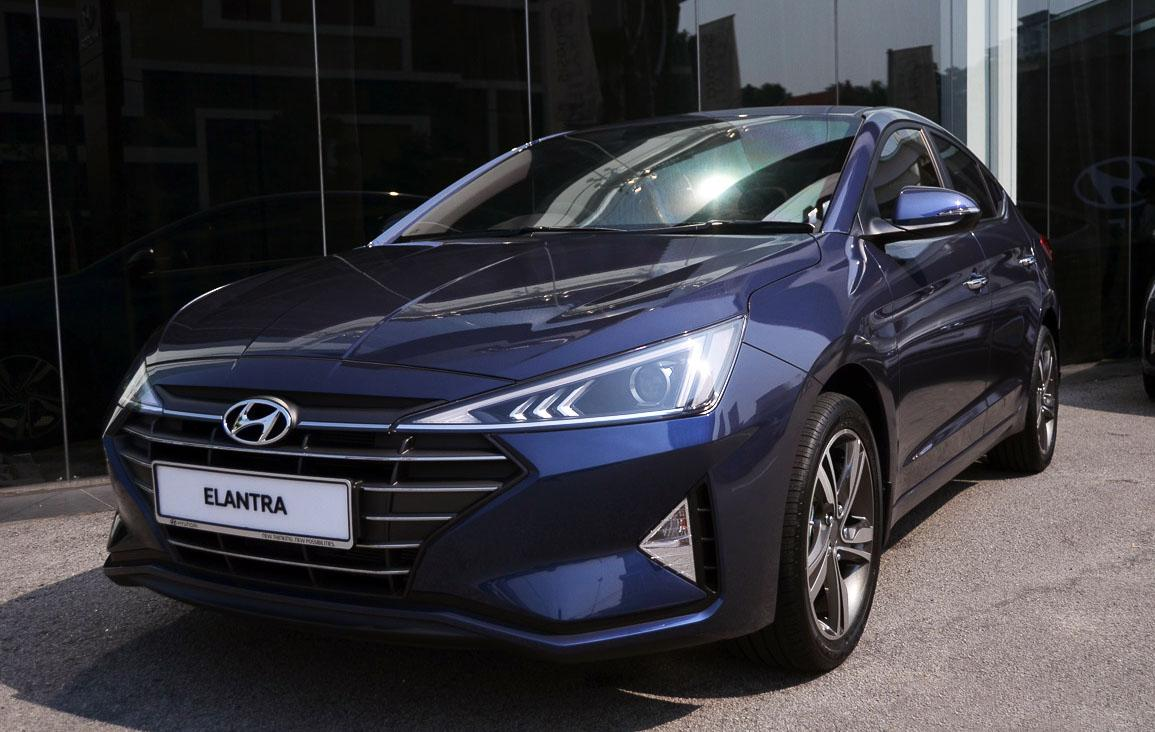windshield: (368, 110, 882, 252)
